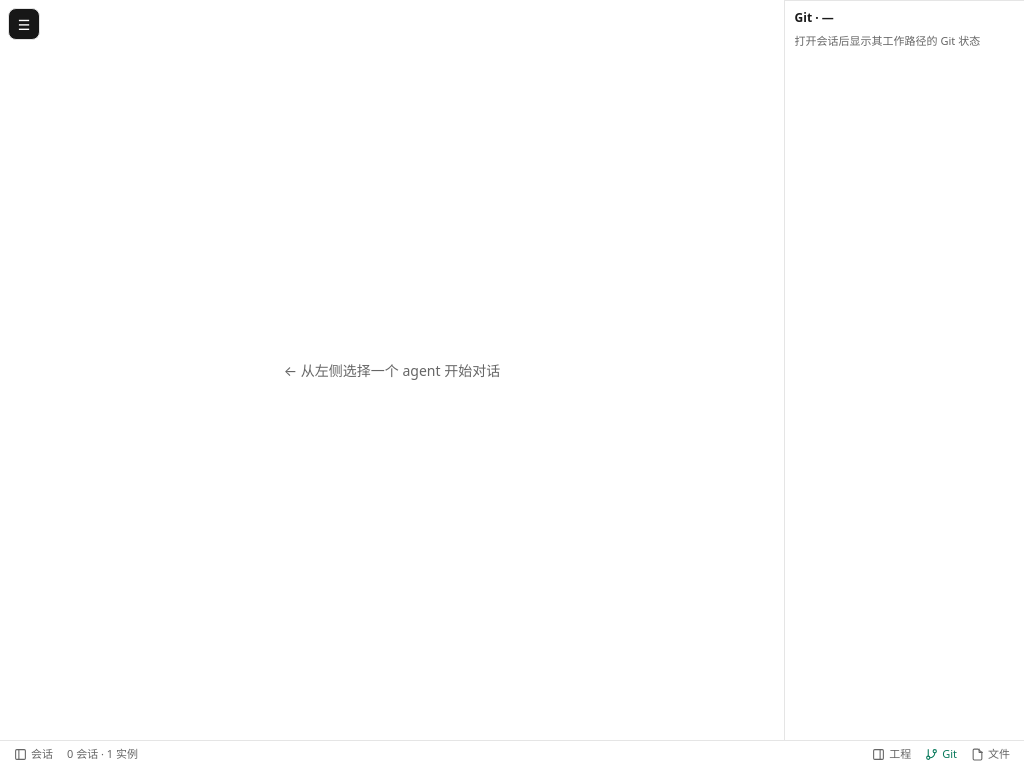
App 底部栏面板显隐（Zed 式 toggle） › hub_panels sessions=false：桌面首帧左栏卸载（pane-left 不挂载，回读断言）
The image size is (1024, 768).
// toggle 恢复：实时重挂载
Click the button with class "bottom-bar-toggle" showing "会话": (34, 754) top-left (8, 744), bottom-right (59, 766)
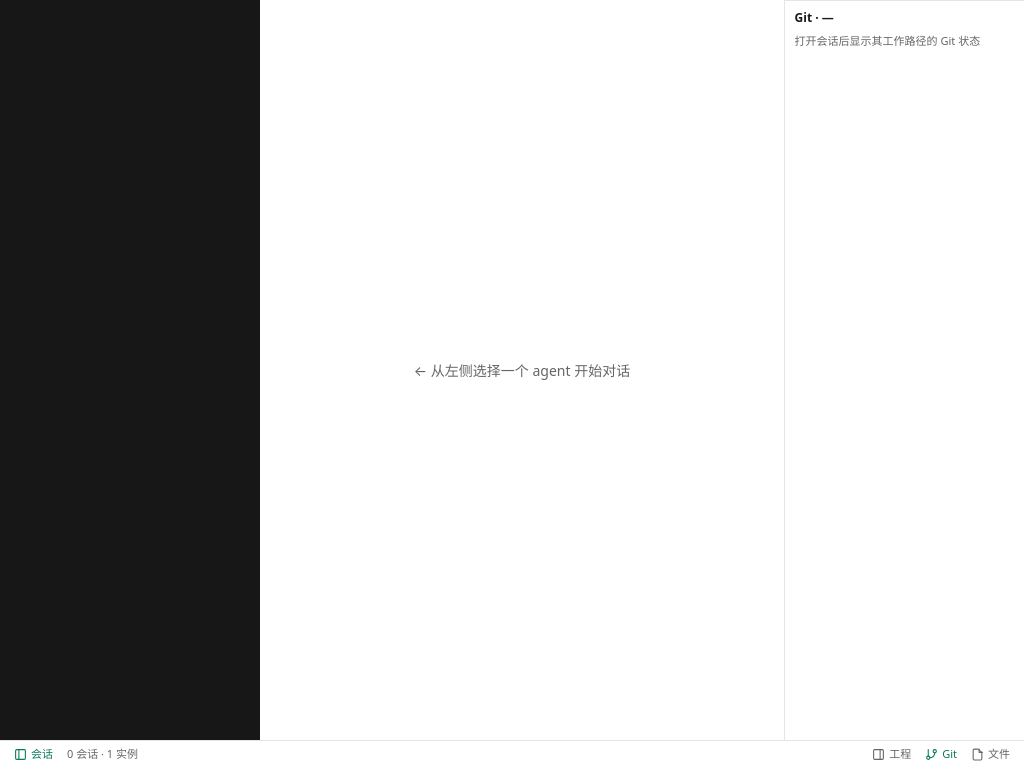
Now the element named "Agents" is shown, box top-left (0, 0), bottom-right (260, 740)
